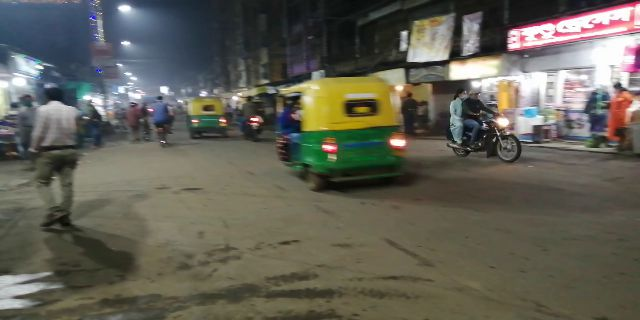Autorickshaw: (277, 77, 415, 185), (183, 91, 236, 136)
Motorbike: (442, 89, 526, 167)
